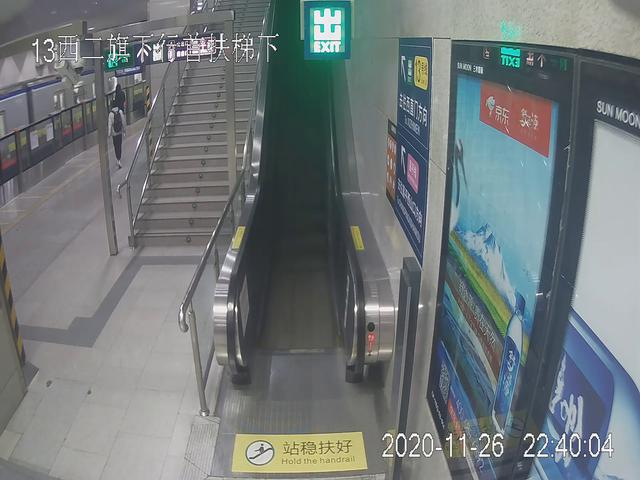person: (107, 99, 128, 174)
